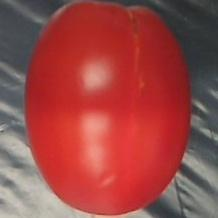unripe: (21, 0, 198, 218)
